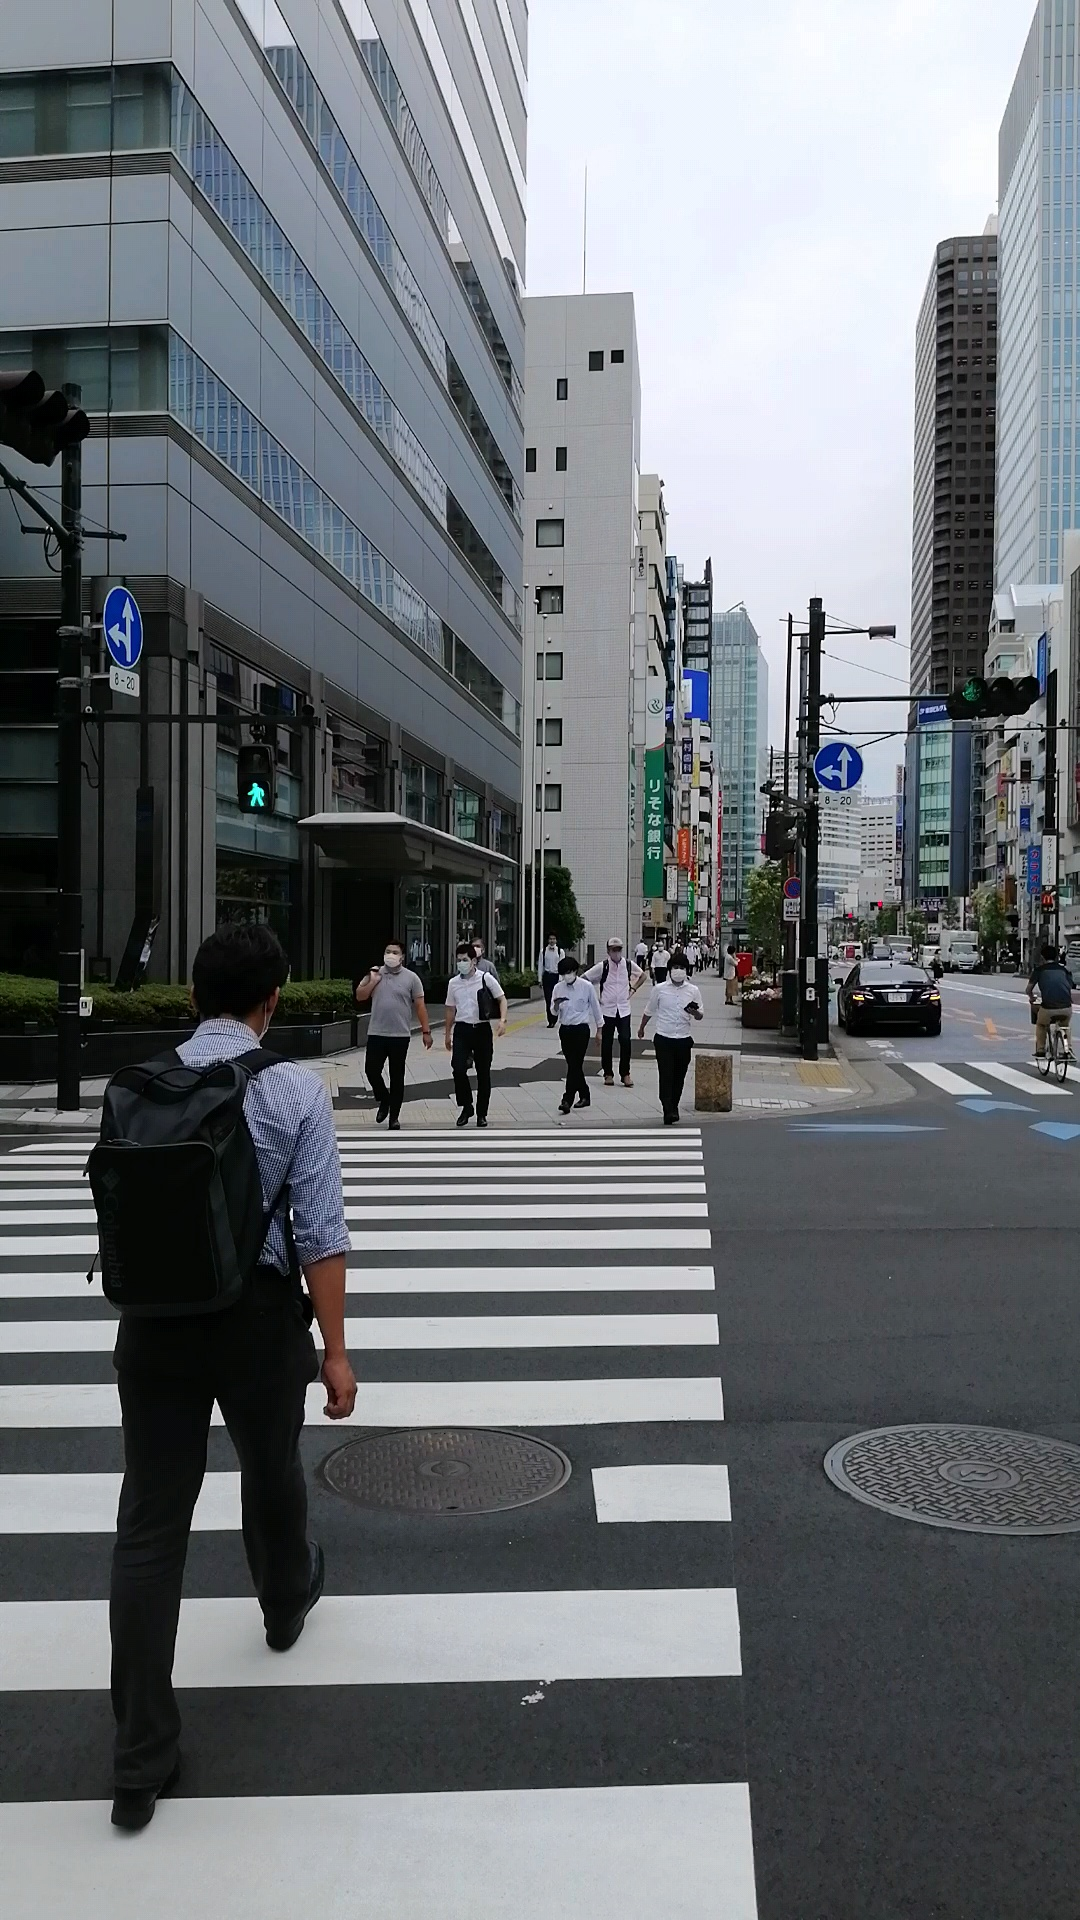green: (237, 744, 277, 815)
